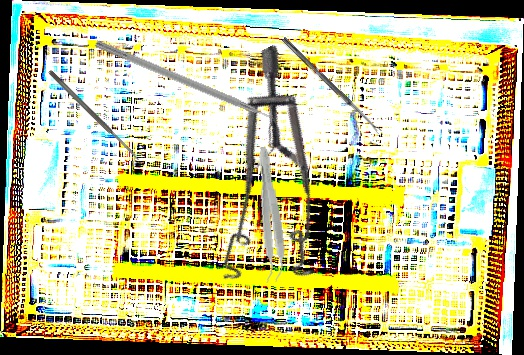Chopper: (89, 39, 289, 138)
Spatula Surgical: (47, 68, 142, 164)
Speculum: (138, 43, 378, 311)
Surgical Spoon: (280, 36, 383, 136)
Tissue Forceps: (249, 145, 289, 284)
